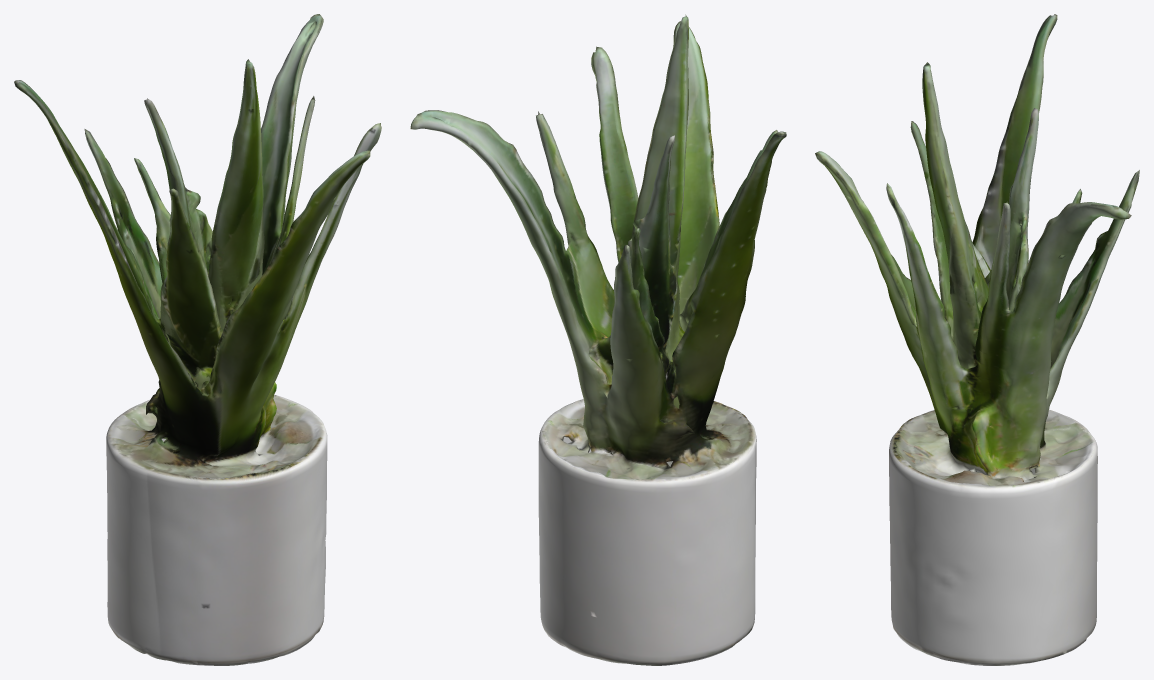
Rendered from aloevera.glb.
3 views of the same model, side by side, from view 1: azimuth 30°, elevation 25°; view 2: azimuth 150°, elevation 25°; view 3: azimuth 270°, elevation 25° (orthographic). The views are drawn at different scales.
Size of the model in its own units: 1.21 by 2 by 1.05.
1 material, 1 textured.
